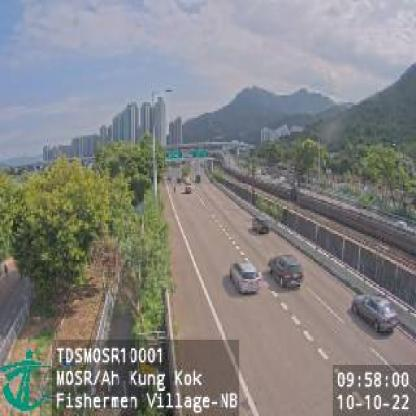Car: (352, 292, 398, 334), (268, 255, 304, 291), (230, 260, 262, 294), (252, 214, 269, 233)
